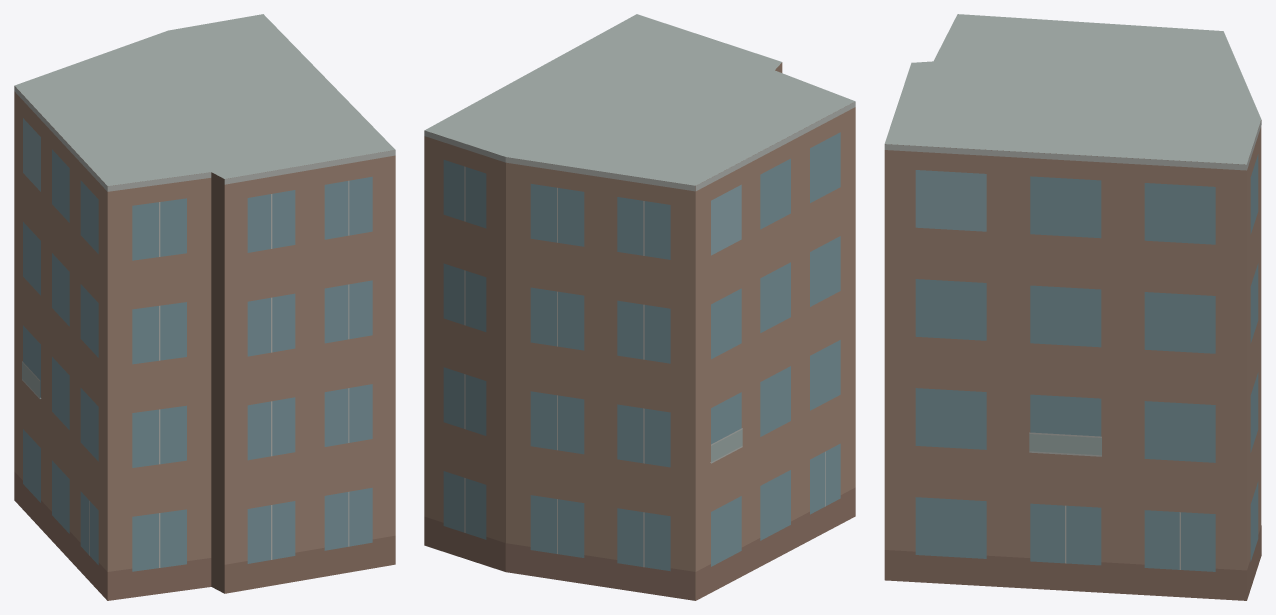
Rendered from survey-upis-32476793.glb.
3 views of the same model, side by side, from view 1: azimuth 30°, elevation 25°; view 2: azimuth 150°, elevation 25°; view 3: azimuth 270°, elevation 25° (orthographic). The views are drawn at different scales.
Visible parts, largest first — view 1: survey-upis-32476793.tmp; view 2: survey-upis-32476793.tmp; view 3: survey-upis-32476793.tmp.
Part boxes in pixels (<box>): survey-upis-32476793.tmp: <box>14,14,395,600</box>; survey-upis-32476793.tmp: <box>424,14,855,600</box>; survey-upis-32476793.tmp: <box>884,14,1261,600</box>.
Bounding box in the file's own units: 13.26 × 17.9 × 14.02.
